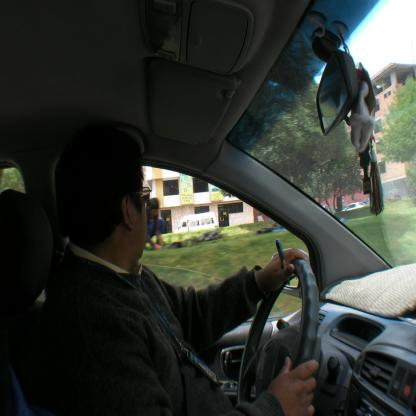Car: (1, 1, 416, 416), (342, 202, 367, 211)
